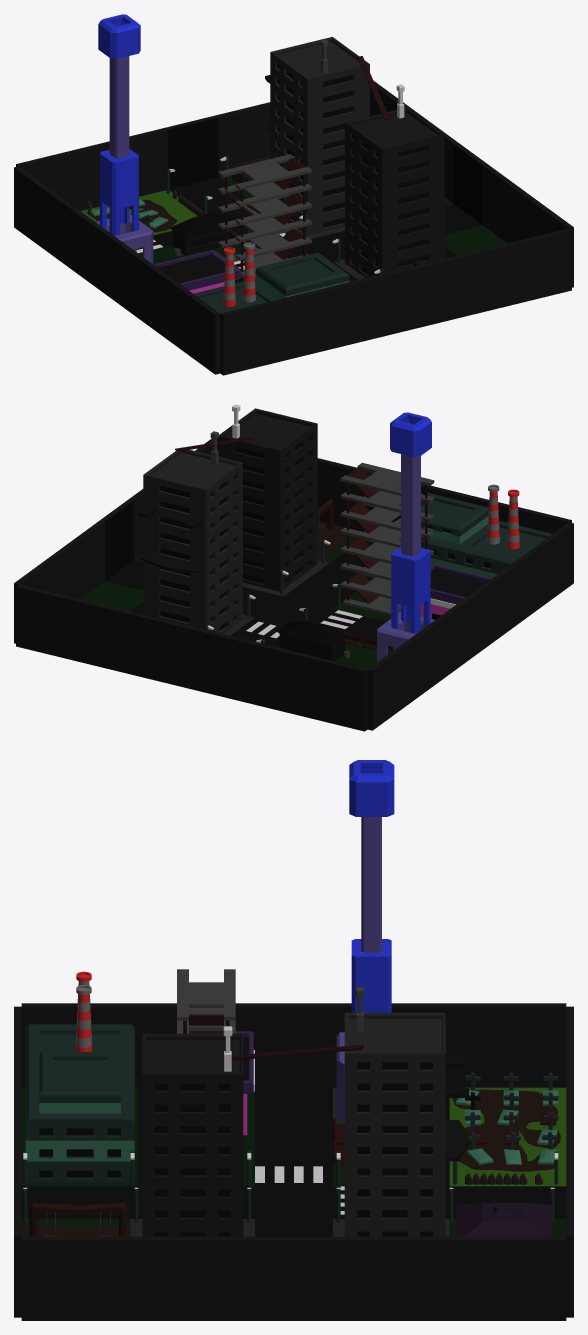
Rendered from BestCityMap.obj.
3 views of the same model, one above another, from view 1: azimuth 30°, elevation 25°; view 2: azimuth 150°, elevation 25°; view 3: azimuth 270°, elevation 25° (orthographic). The views are drawn at different scales.
Visible parts, largest first — view 1: Walls, NS2, NS, Ground, BASHNA, Sroyka, Zavod, JenskHuina, Shop2, Lights; view 2: Walls, NS, NS2, Ground, Sroyka, BASHNA, Zavod, Shop2, JenskHuina, Platform.003, Lights; view 3: Walls, Ground, NS, NS2, Zavod, BASHNA, Sroyka, Shop, Lights, Cube, JenskHuina, Platform.003 (+2 smaller).
Boxes of the visible parts, left/top/right/bottom form: Walls: left=14, top=81, right=573, bottom=375; NS2: left=345, top=84, right=444, bottom=277; NS: left=270, top=37, right=369, bottom=235; Ground: left=80, top=175, right=507, bottom=283; BASHNA: left=95, top=14, right=153, bottom=263; Sroyka: left=218, top=154, right=312, bottom=281; Zavod: left=193, top=242, right=350, bottom=313; JenskHuina: left=153, top=249, right=241, bottom=293; Shop2: left=170, top=213, right=237, bottom=255; Lights: left=166, top=156, right=382, bottom=274; Walls: left=14, top=438, right=573, bottom=731; NS: left=143, top=431, right=242, bottom=633; NS2: left=218, top=404, right=317, bottom=591; Ground: left=80, top=521, right=421, bottom=669; Sroyka: left=340, top=462, right=434, bottom=615; BASHNA: left=377, top=412, right=434, bottom=662; Zavod: left=421, top=484, right=552, bottom=578; Shop2: left=277, top=620, right=346, bottom=661; JenskHuina: left=420, top=563, right=491, bottom=619; Platform.003: left=140, top=554, right=202, bottom=573; Lights: left=205, top=539, right=340, bottom=644; Walls: left=14, top=1003, right=573, bottom=1320; Ground: left=21, top=1087, right=566, bottom=1236; NS: left=344, top=987, right=445, bottom=1236; NS2: left=142, top=1026, right=243, bottom=1236; Zavod: left=25, top=971, right=134, bottom=1182; BASHNA: left=336, top=760, right=394, bottom=1121; Sroyka: left=177, top=969, right=235, bottom=1033; Shop: left=456, top=1203, right=551, bottom=1236; Lights: left=23, top=1151, right=558, bottom=1222; Cube: left=29, top=1202, right=126, bottom=1236; JenskHuina: left=235, top=1031, right=254, bottom=1135; Platform.003: left=445, top=1120, right=468, bottom=1161.
Bounding box in the file's own units: 144 × 102 × 144.
